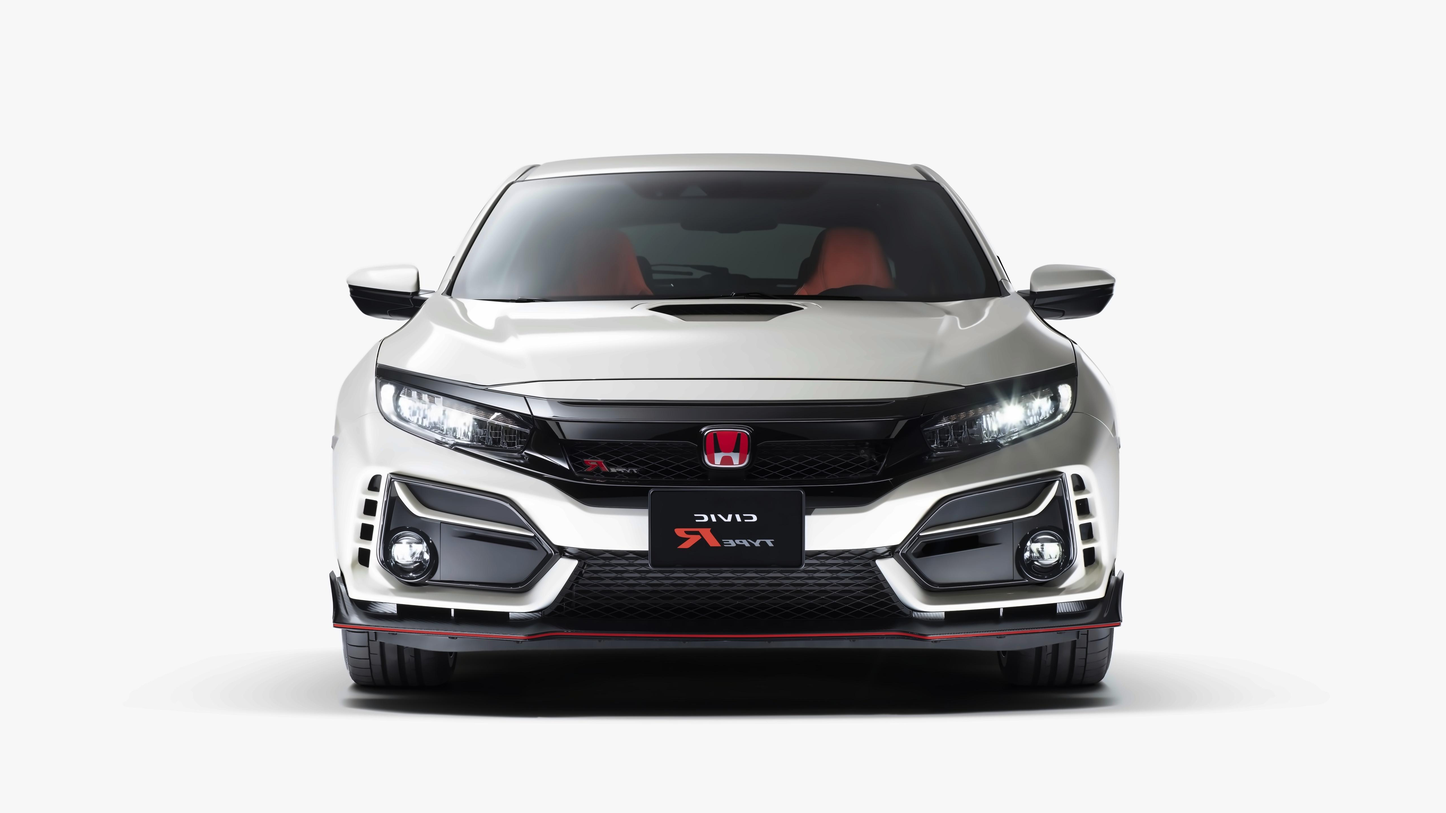Car hood: (372, 290, 1077, 416)
Front bumper: (323, 414, 1134, 653)
Headlight - -L-: (886, 360, 1086, 481)
Headlight - -R-: (373, 359, 586, 487)
Side mirror - -L-: (1023, 254, 1120, 329)
Side mirror - -R-: (335, 260, 438, 334)
